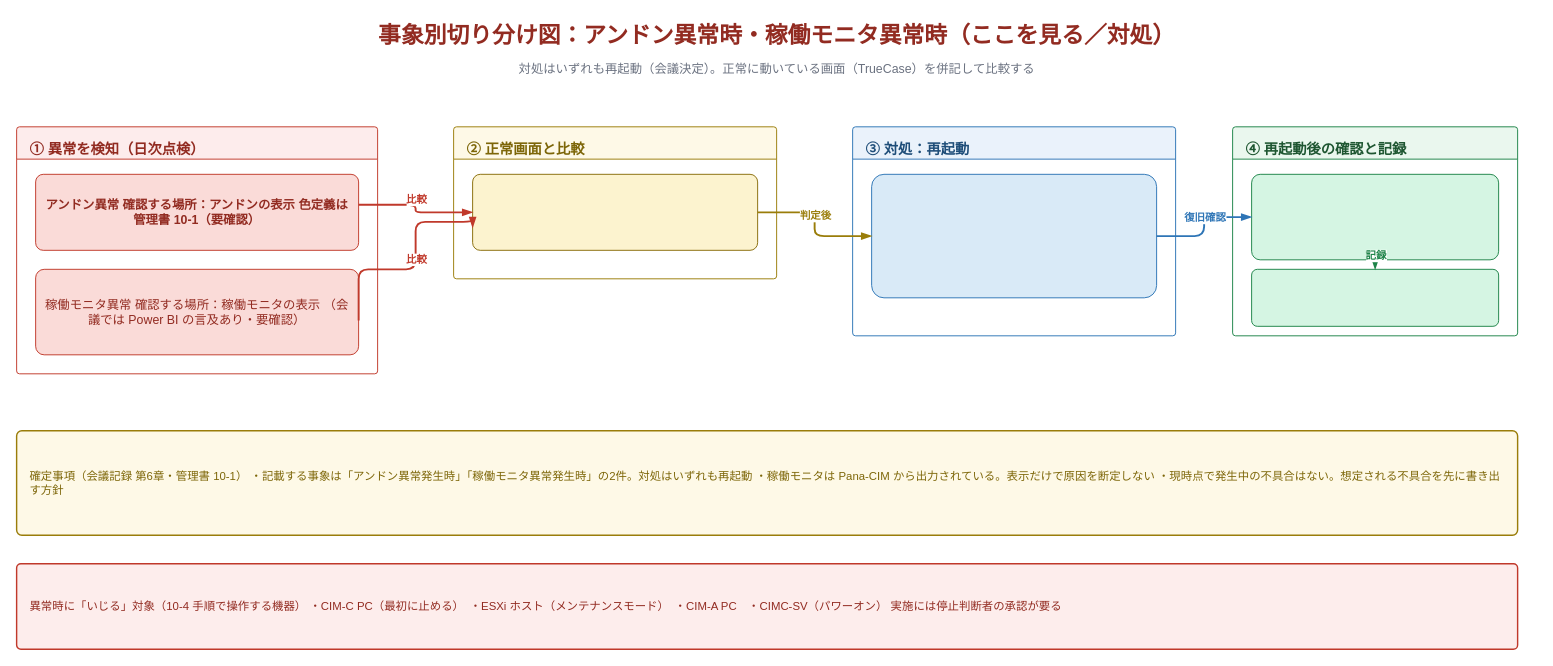
The diagram is 1553 pixels wide and 666 high, and some of its shapes have lost their labels. Each missing label, with the centre of its shape:
"再起動手順を実施 管理書 第10章 10-4 （異常時のサーバー再起動） ※手順は本ファイル P4 を参照" belongs at (1014,235).
"正常に動いている画面 （TrueCase・添付画像14枚で比較）" belongs at (615,211).
"稼働モニタとアンドンの 表示を確認（第6章 Step 1 と同じ状態）" belongs at (1375,216).
"記録：PC上のフォームへ入力 （紙は使わない）" belongs at (1375,297).
